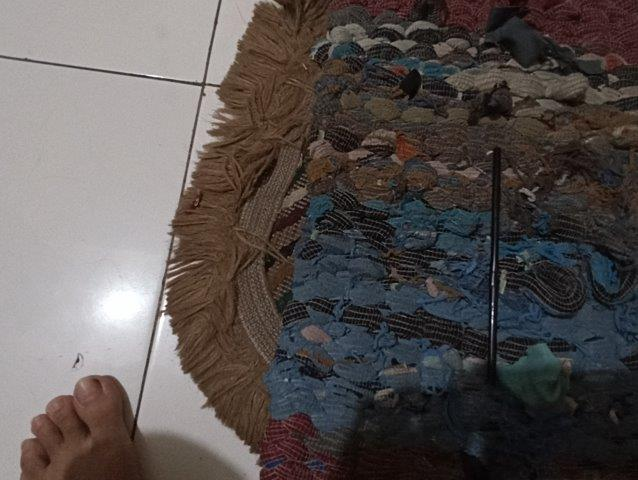sedotan: (486, 149, 502, 377)
